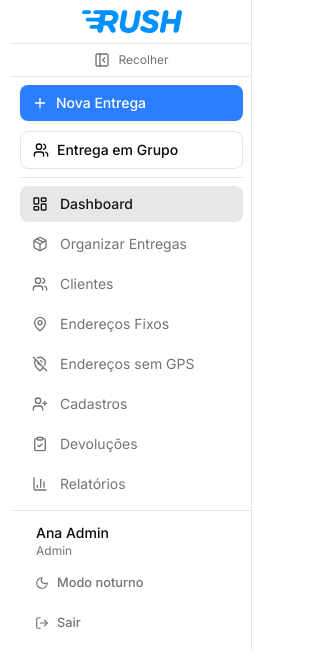
Test: SidebarNav › expands again on a second click
The image size is (332, 668).
Step 1. Click the button titled "Recolher menu" → (132, 60), box [12,44,251,77]
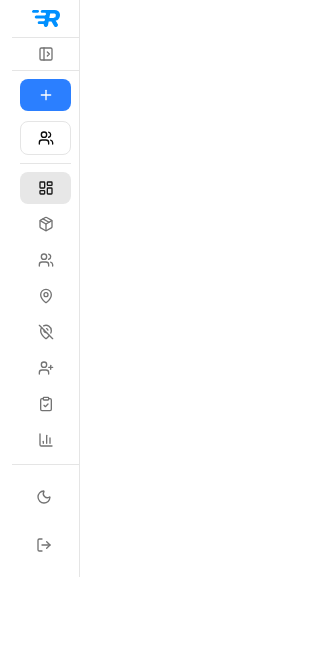
Step 2. Click the button titled "Expandir menu" → (46, 55), box [12,38,79,71]
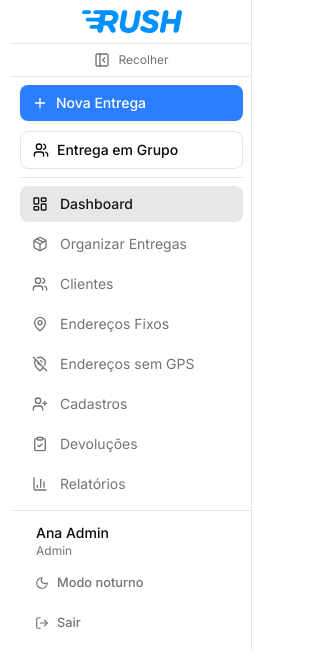
expect the text "Ana Admin" is shown: met, box [36,524,109,541]
